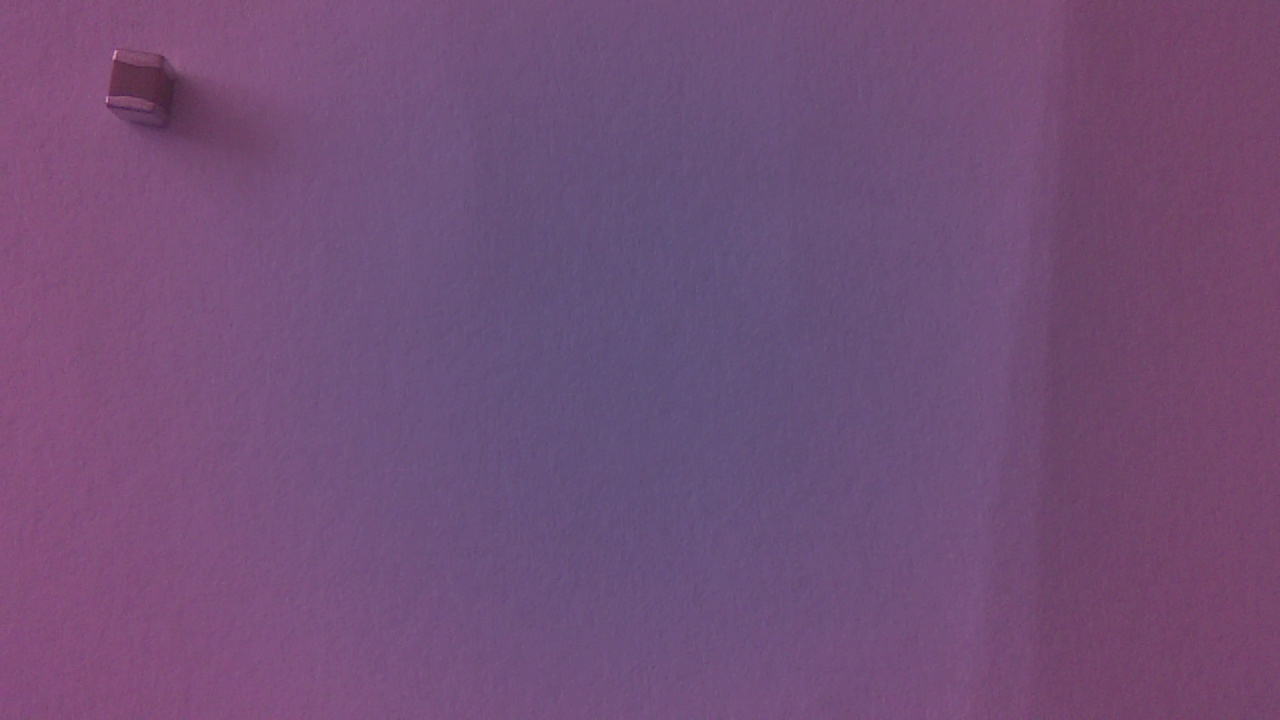Condensator: (107, 46, 183, 131)
